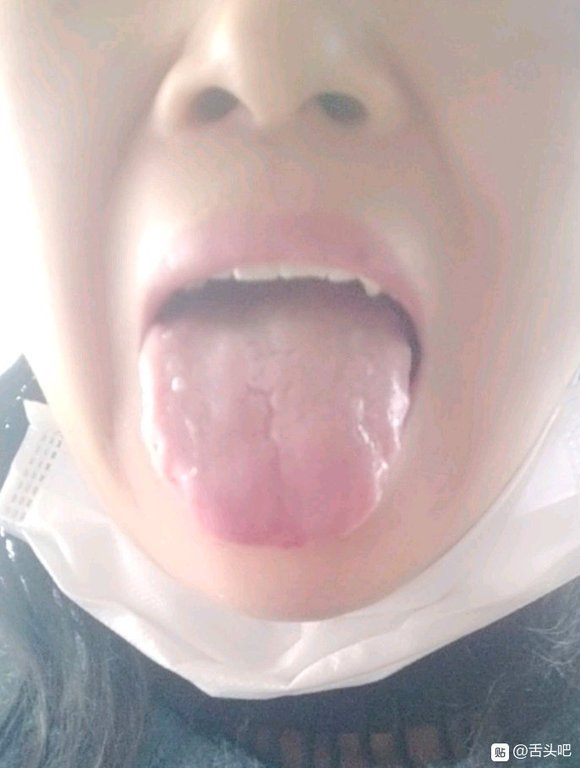chihenshe: (374, 352, 411, 506), (141, 418, 193, 505)
hongshe: (141, 285, 412, 546)
liewenshe: (241, 380, 280, 445)
pangdashe: (141, 285, 412, 546)
